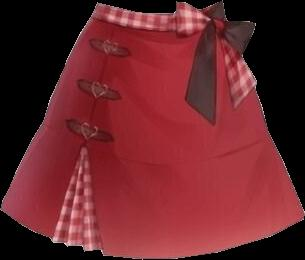Hemline: (0, 142, 304, 259), (51, 239, 101, 250)
Waistline: (91, 13, 225, 30), (97, 0, 221, 13)
